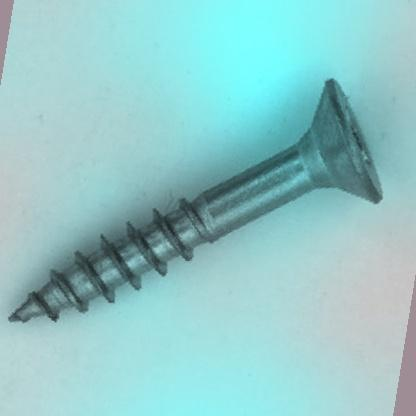metal: (10, 78, 383, 324)
